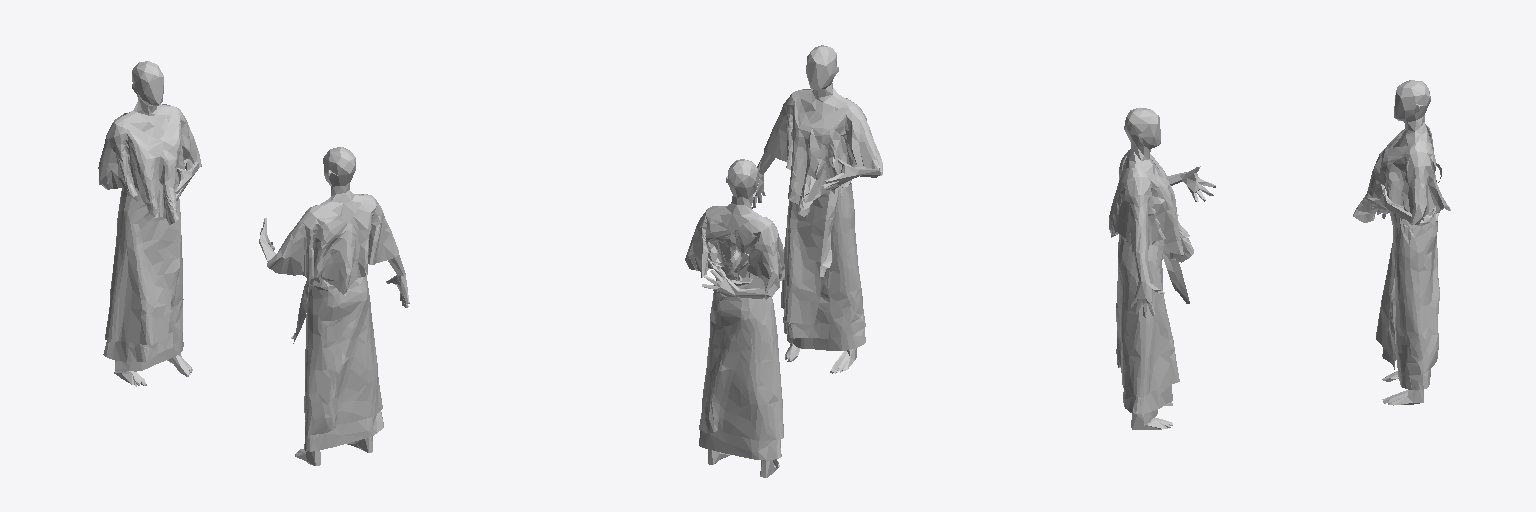
Rendered from charla.obj.
3 renders of one model, left to right at view 1: azimuth 30°, elevation 25°; view 2: azimuth 150°, elevation 25°; view 3: azimuth 270°, elevation 25°, orthographic.
Visible parts, largest first — view 1: TrajeTipico.001, TrajeTipico, Maniqui.001, Maniqui; view 2: TrajeTipico.001, TrajeTipico, Maniqui.001, Maniqui; view 3: TrajeTipico.001, TrajeTipico, Maniqui.001, Maniqui.
Boxes of the visible parts, x1=… form: TrajeTipico.001: x1=267, y1=194, x2=398, y2=451; TrajeTipico: x1=98, y1=104, x2=201, y2=372; Maniqui.001: x1=259, y1=147, x2=409, y2=465; Maniqui: x1=99, y1=61, x2=198, y2=386; TrajeTipico.001: x1=764, y1=89, x2=882, y2=350; TrajeTipico: x1=685, y1=206, x2=784, y2=467; Maniqui.001: x1=751, y1=45, x2=880, y2=373; Maniqui: x1=702, y1=159, x2=779, y2=477; TrajeTipico.001: x1=1109, y1=150, x2=1193, y2=425; TrajeTipico: x1=1353, y1=124, x2=1445, y2=390; Maniqui.001: x1=1123, y1=108, x2=1215, y2=429; Maniqui: x1=1367, y1=80, x2=1450, y2=405.
Size of the model in its own units: 104 by 183 by 184.